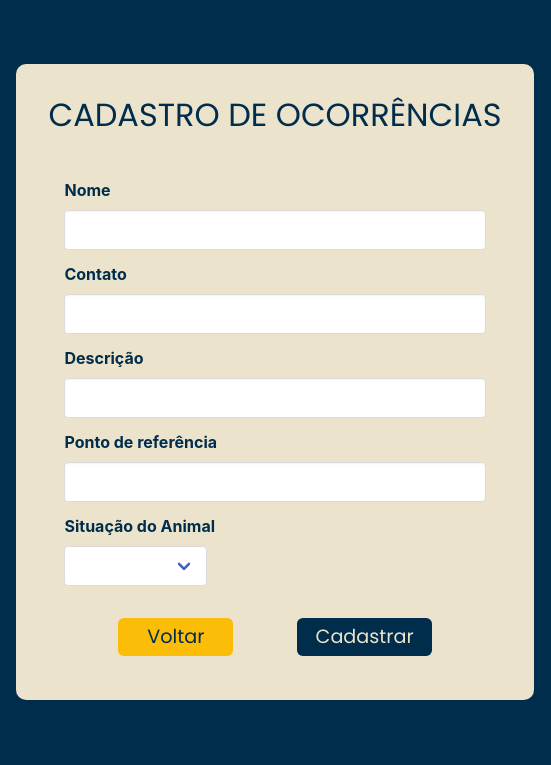
Test: RegisterOccurences › Deve retornar os erro ao clicar imediatamente quando clicar no cadastrar
This screenshot has width=551, height=765.
Click the button with class "butt2" at (364, 637), box [297,618,431,656]
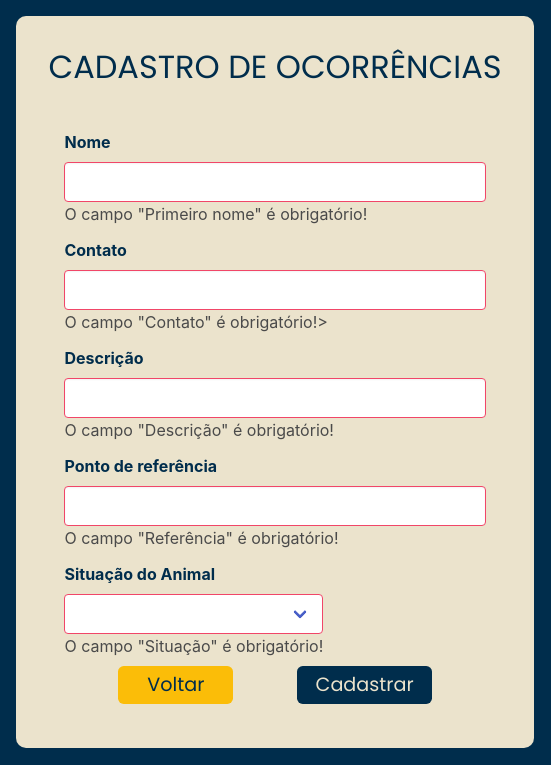
Expected: the list item "O campo \"Primeiro nome\" é obrigatório!" is shown, [64,204,367,224]
Expected: the list item "O campo \"Contato\" é obrigatório!>" is shown, [64,312,328,332]
Expected: the list item "O campo \"Descrição\" é obrigatório!" is shown, [64,420,334,440]
